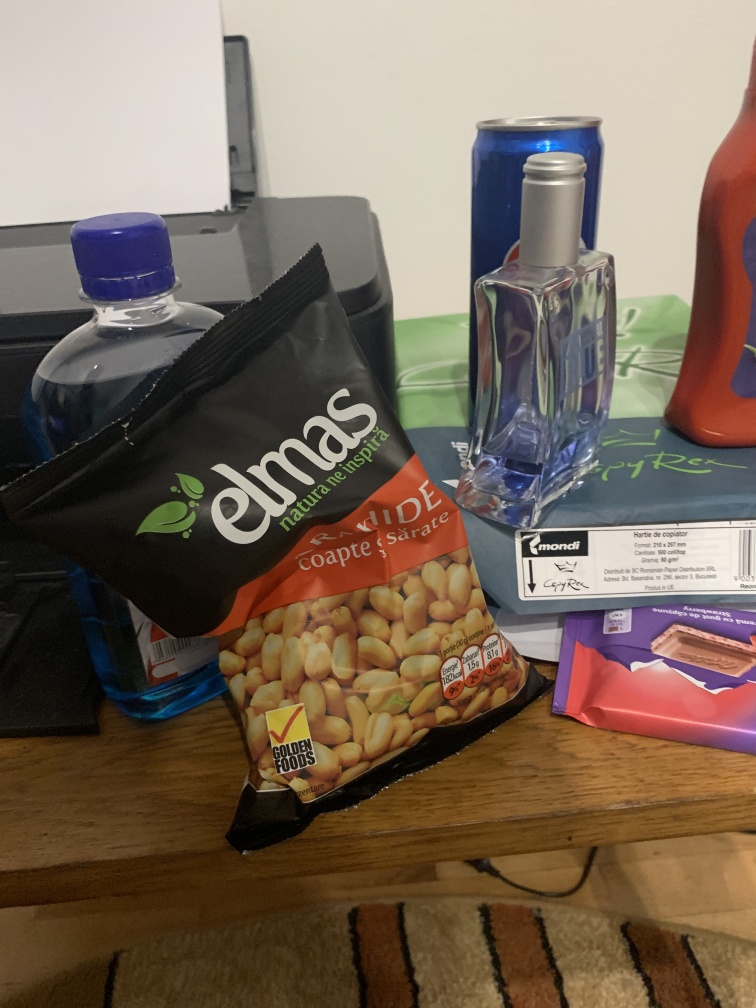ketchup: (674, 28, 756, 436)
milka: (544, 588, 756, 753)
peanuts: (59, 246, 555, 875)
pepsi: (466, 111, 607, 460)
